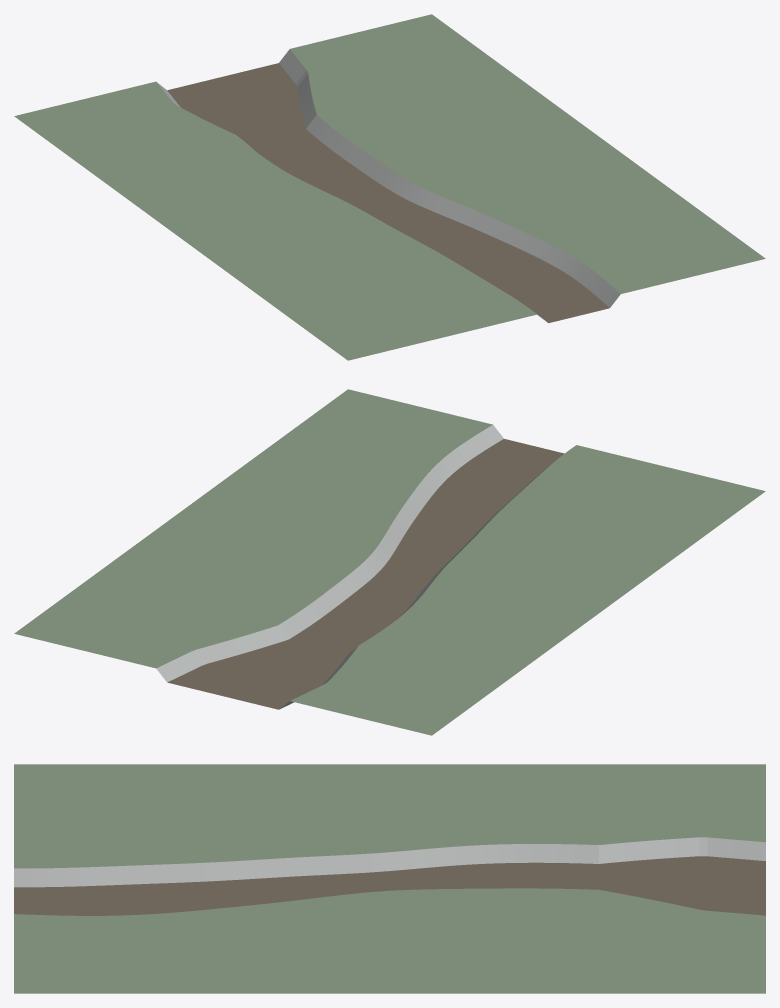
Rendered from SM_Env_RiverValleyTerrain.fbx.
3 renders of one model, top to bottom at view 1: azimuth 30°, elevation 25°; view 2: azimuth 150°, elevation 25°; view 3: azimuth 270°, elevation 25°, orthographic. The views are drawn at different scales.
Parts seen in each view (by area): view 1: SM_Env_RiverValleyTerrain; view 2: SM_Env_RiverValleyTerrain; view 3: SM_Env_RiverValleyTerrain.
Boxes of the visible parts, left/top/right/bottom form: SM_Env_RiverValleyTerrain: left=14, top=14, right=765, bottom=360; SM_Env_RiverValleyTerrain: left=14, top=389, right=765, bottom=735; SM_Env_RiverValleyTerrain: left=14, top=764, right=765, bottom=993.
Size of the model in its own units: 130 by 3.4 by 180.
